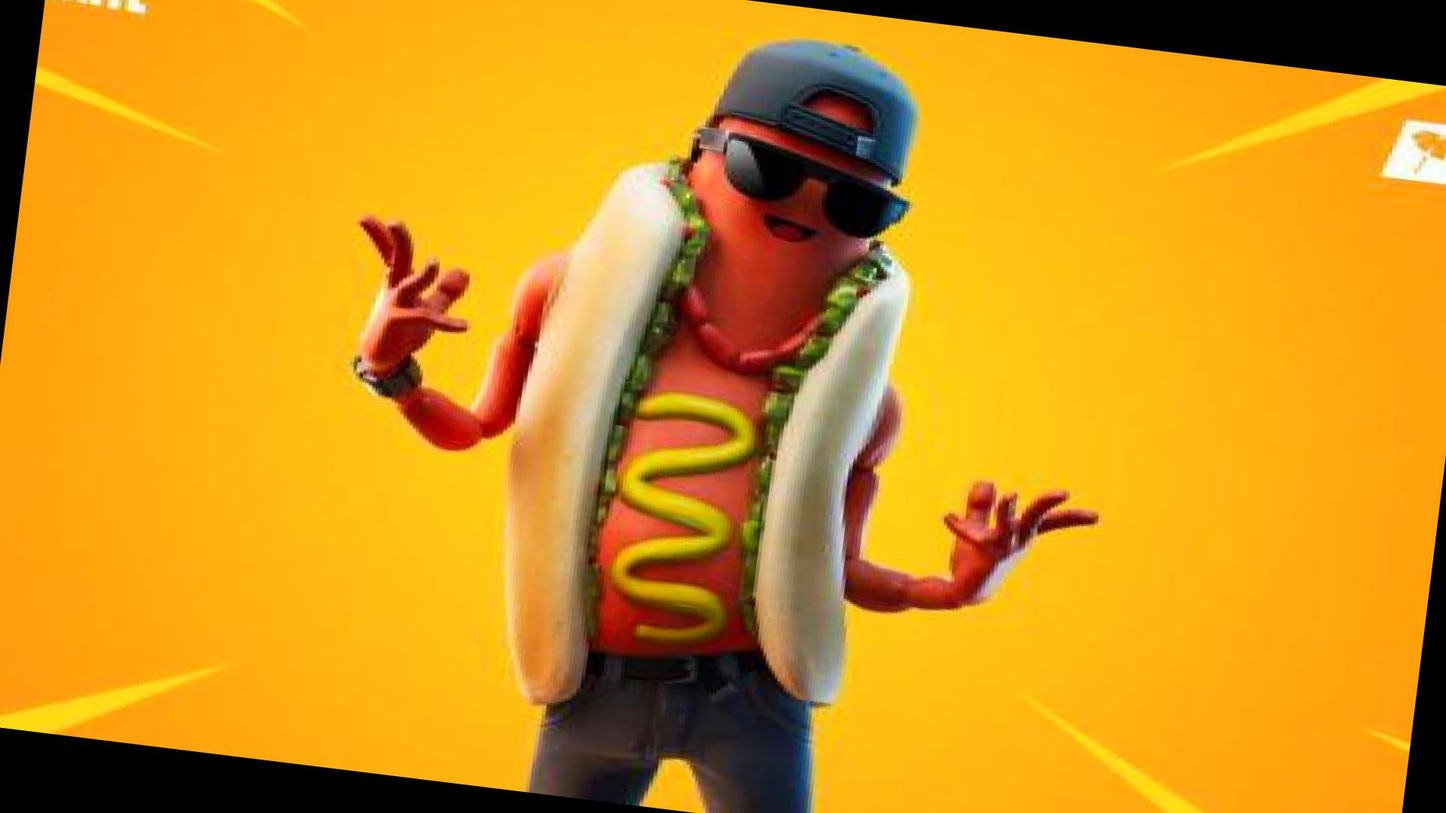player: (285, 0, 1158, 813)
